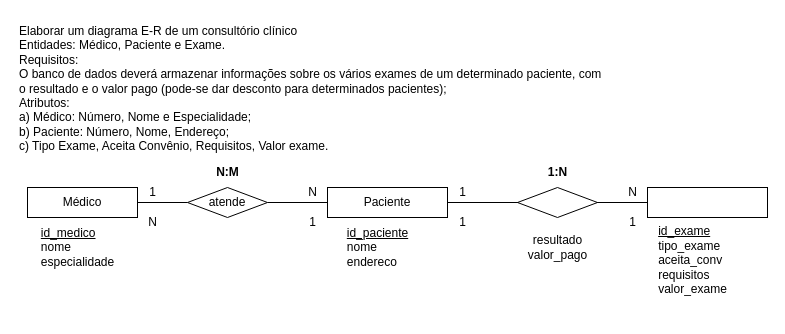
This 785x334 diagram has some shape labels left out. Here are the shapes that lost their labels. From the top down, the centre of each, then its label:
At [557,202]: "faz".
At [707,202]: "Exame".
